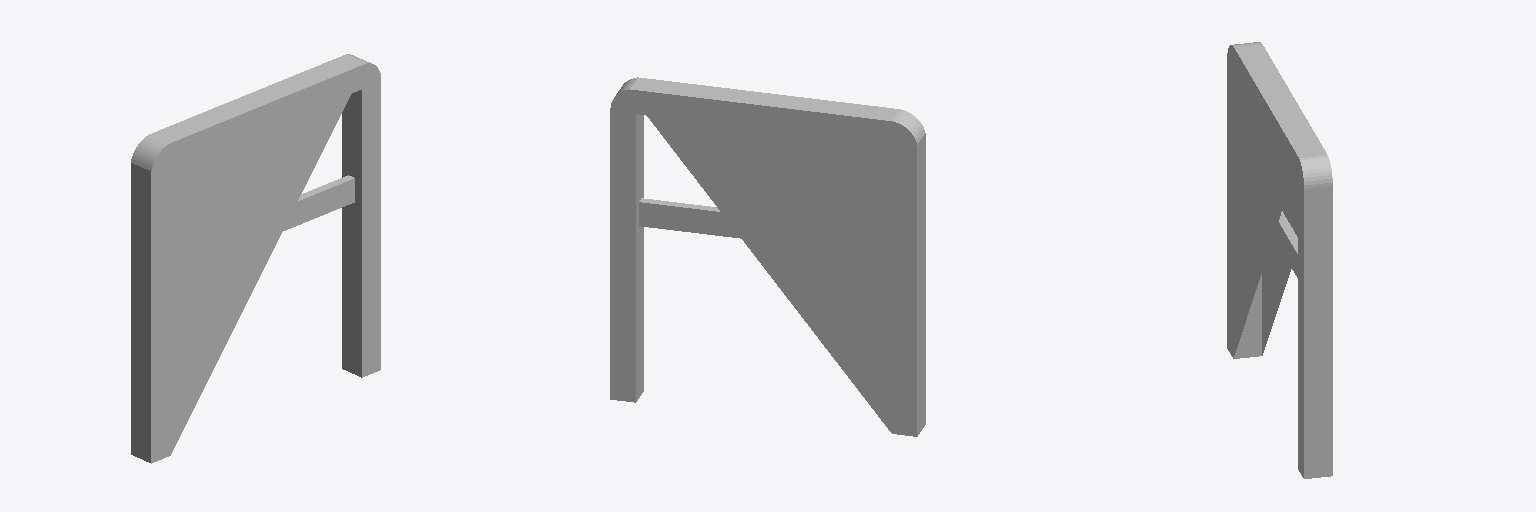
File: Bike_Rack2.obj
3 renders of one model, left to right at view 1: azimuth 30°, elevation 25°; view 2: azimuth 150°, elevation 25°; view 3: azimuth 270°, elevation 25°, orthographic.
Visible parts, largest first — view 1: Mesh1 Model; view 2: Mesh1 Model; view 3: Mesh1 Model.
Part boxes in pixels (left/top/right/bottom): Mesh1 Model: left=131, top=54, right=380, bottom=463; Mesh1 Model: left=610, top=77, right=925, bottom=436; Mesh1 Model: left=1227, top=42, right=1332, bottom=478.
Size of the model in its own units: 0.8254 by 0.8976 by 0.2753.